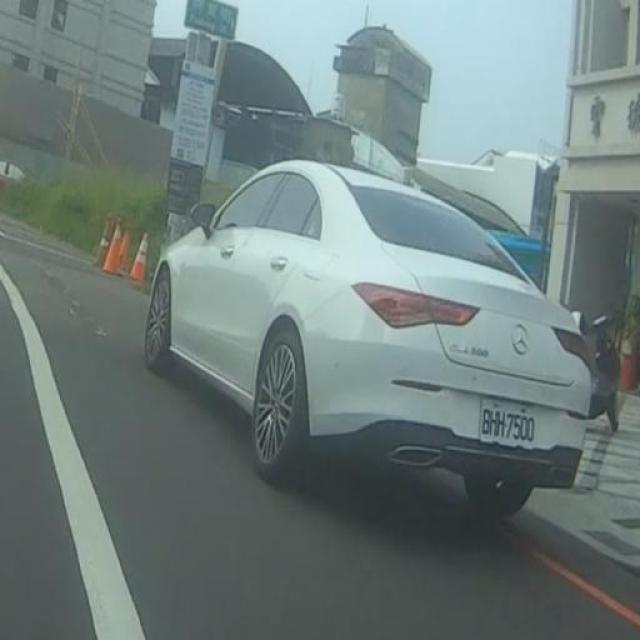Legalparking: (147, 114, 618, 544)
